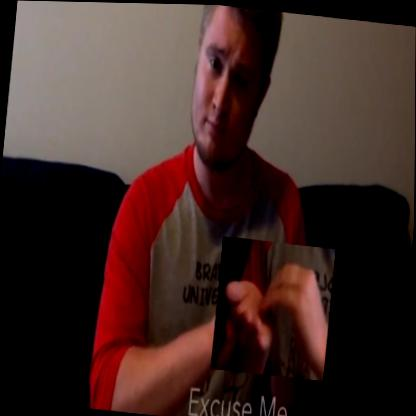ExcuseMe: (211, 235, 336, 380)
